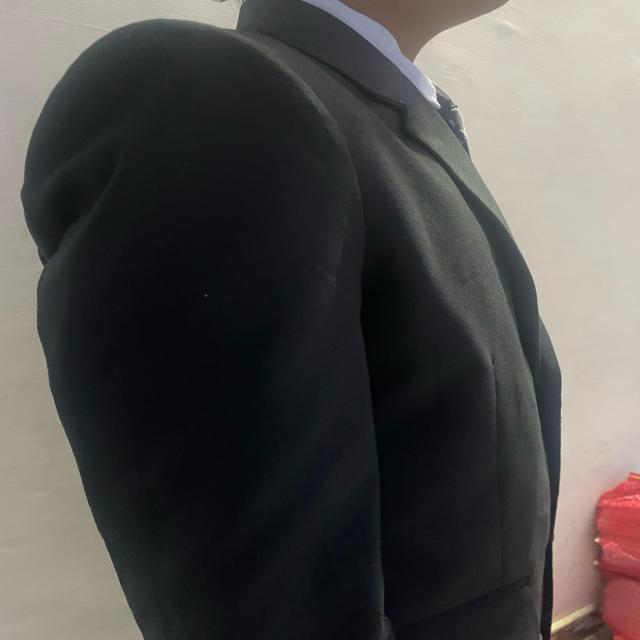uniform: (20, 1, 562, 638)
